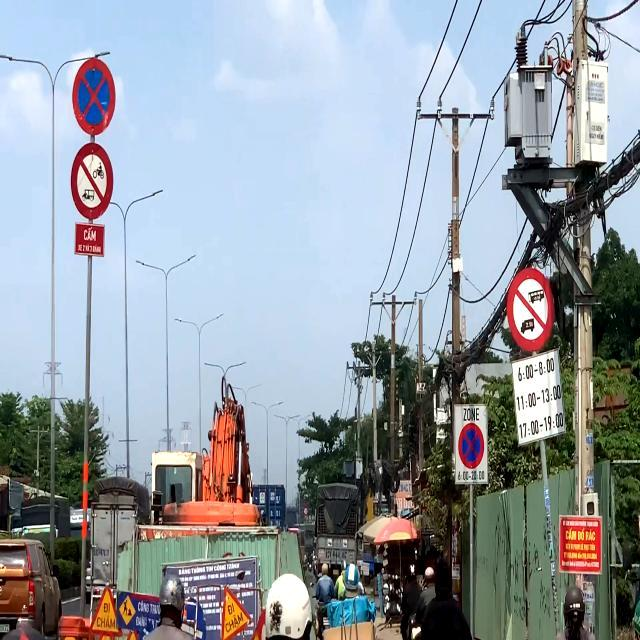Cam dung xe va do xe: (70, 54, 118, 138), (458, 420, 486, 470)
Di cham: (218, 586, 247, 634), (92, 587, 120, 630)
